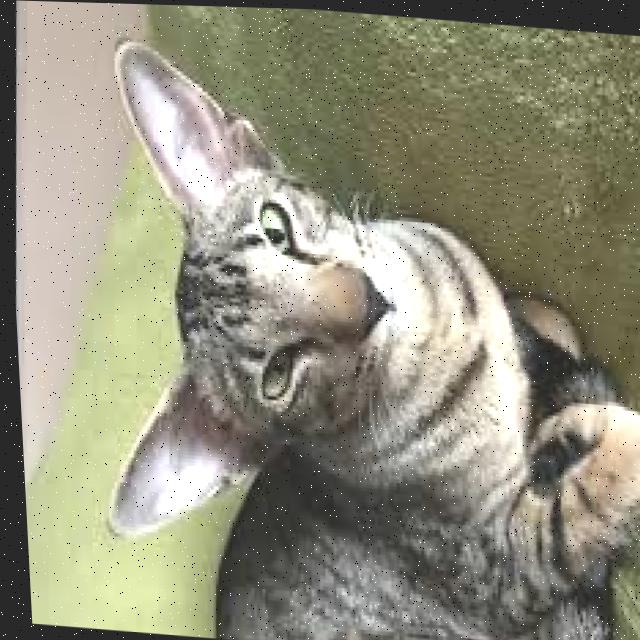Oriental: (69, 27, 640, 640)
